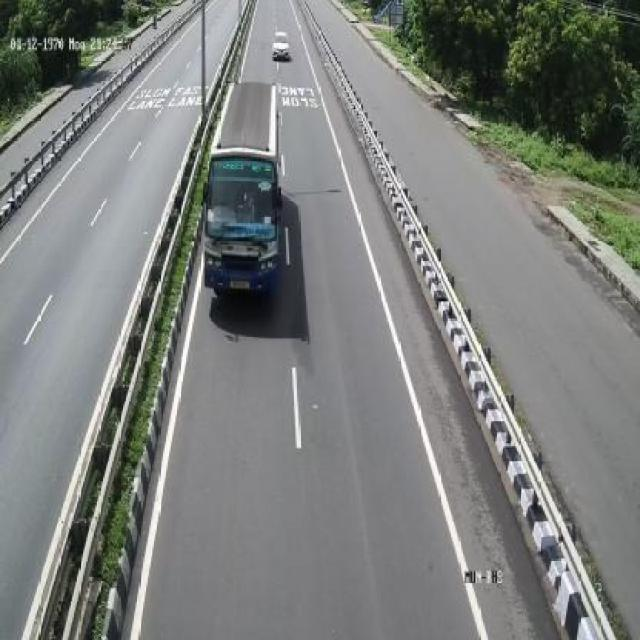car: (271, 23, 295, 66)
